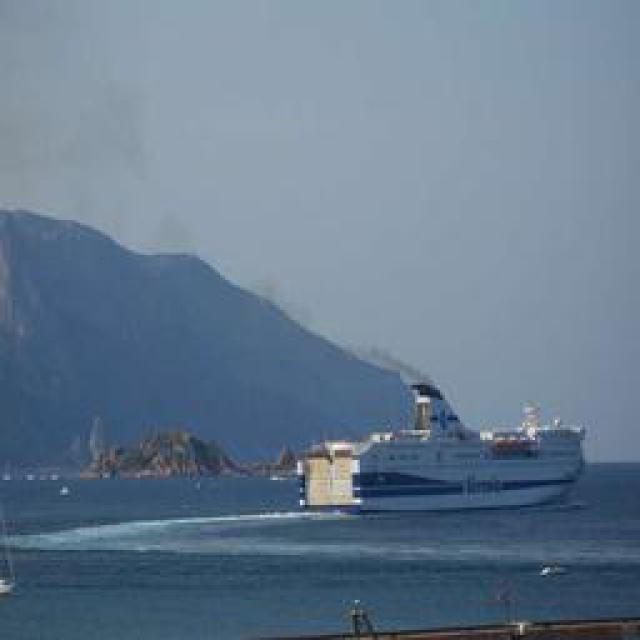Ship: (348, 368, 586, 513)
